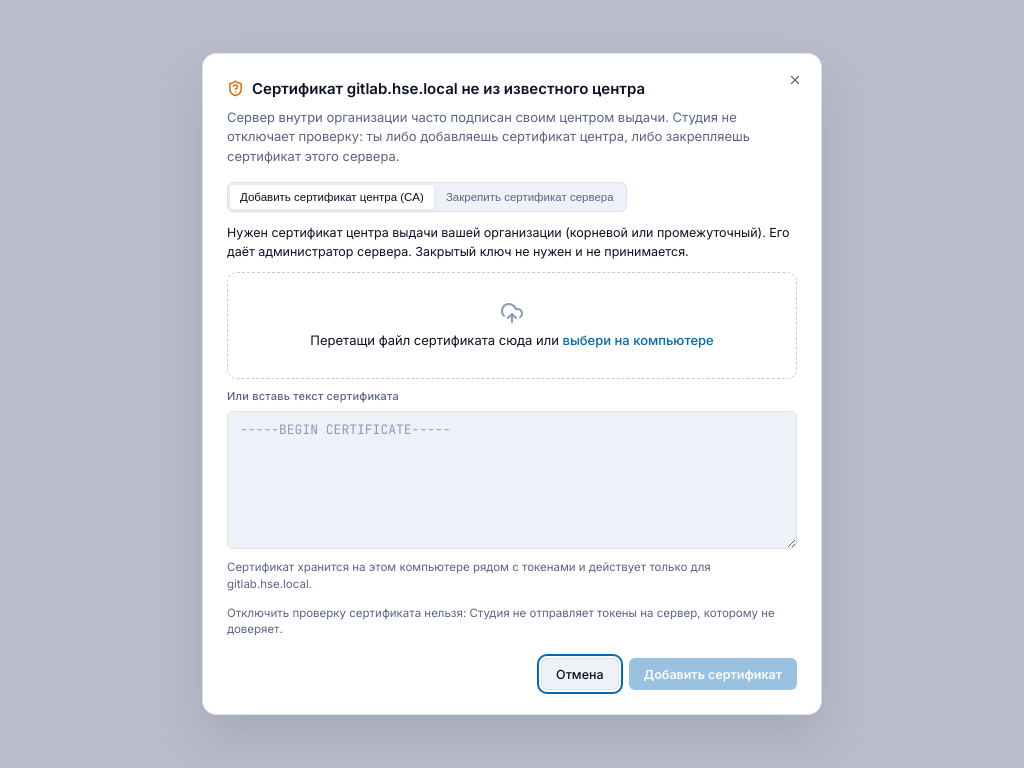
Test case: TlsTrustDialog › без сертификата закрепить нельзя, объяснено почему
Click the button "Закрепить сертификат сервера". click: x=530, y=197
box: [436,185,624,209]
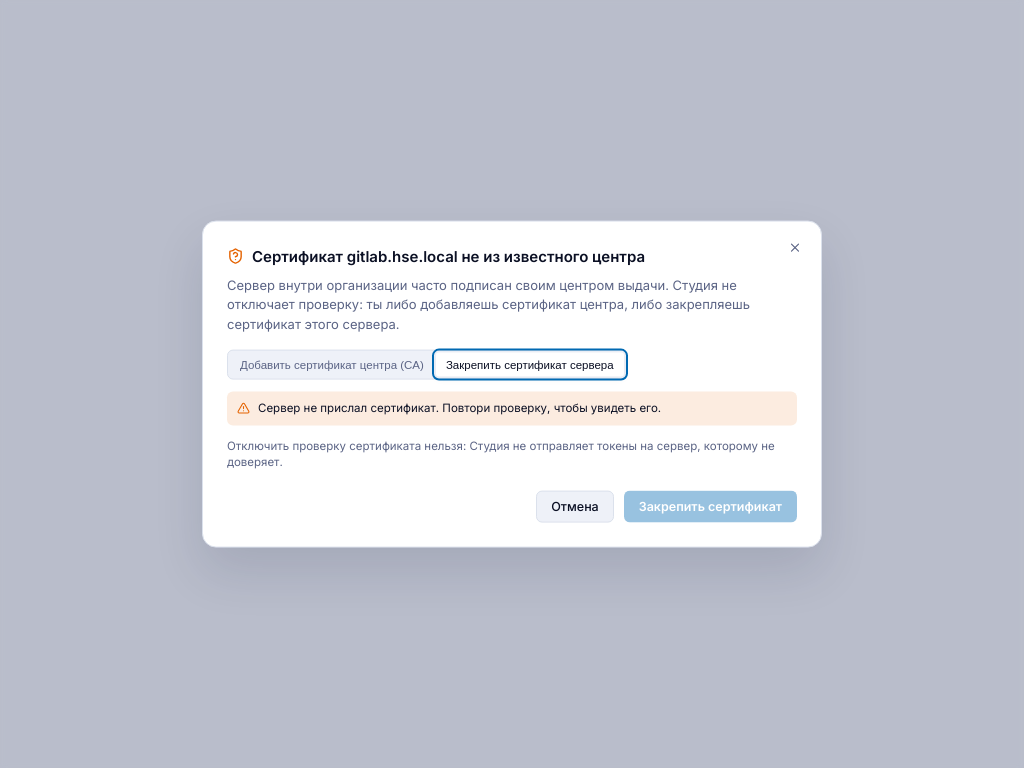
Expected: the button with test id "tls-submit" is disabled, [624,490,797,522]
Expected: the text "Сервер не прислал сертификат" is shown, [258,401,661,415]
